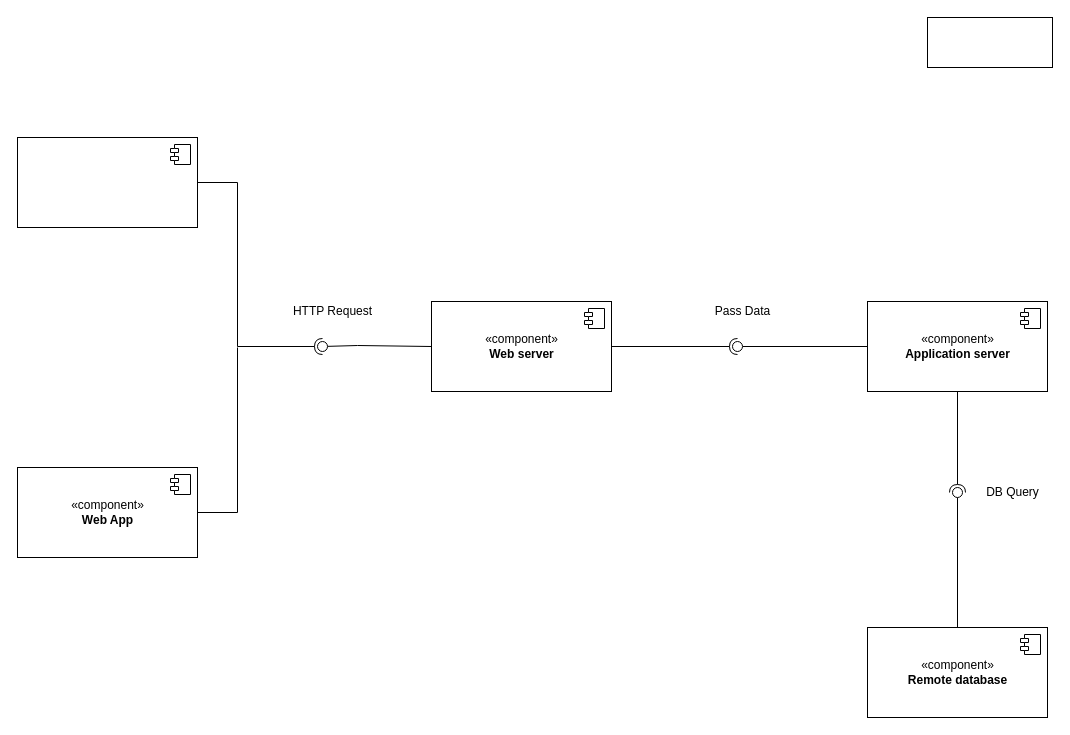
Some shapes in this 1070 by 735 pixel diagram are drawn without their labels. The shapes that lost their labels are listed below. From the top down, each one's centre as x and y in pixels, then its label:
point 989,42: Sebastian Hattinger
point 107,182: «component» Mobile App
